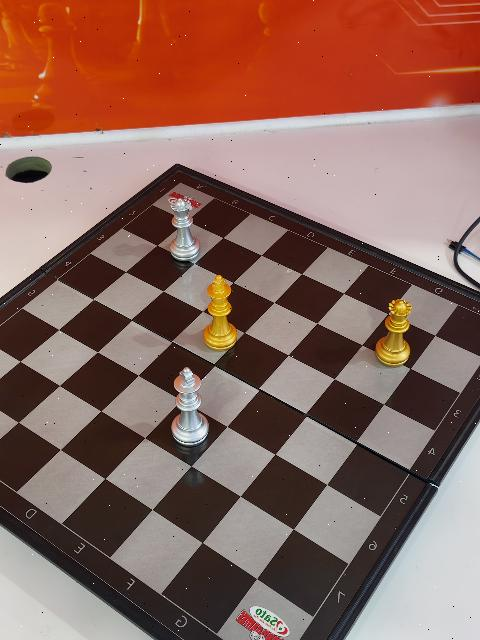black_king: (202, 276, 238, 351)
black_queen: (376, 298, 413, 369)
white_king: (170, 369, 209, 447)
white_queen: (169, 195, 200, 262)
